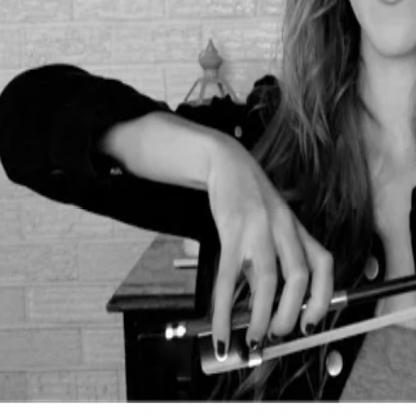good: (196, 130, 337, 372)
